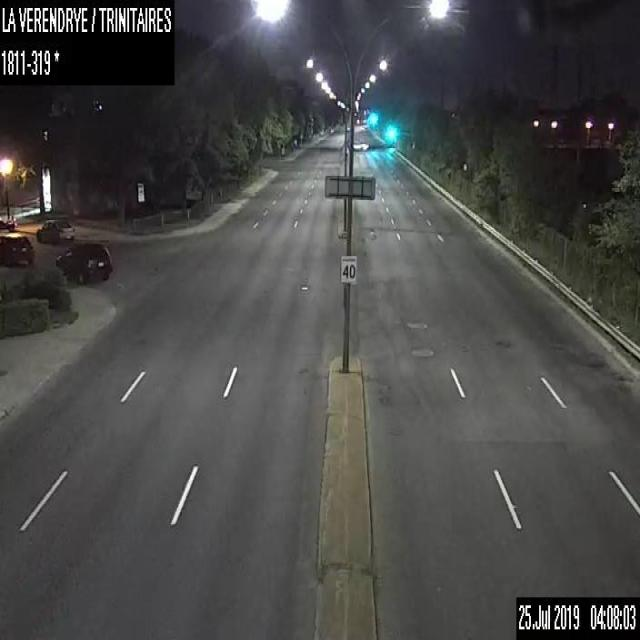vehicle: (55, 242, 112, 282), (0, 232, 34, 268), (36, 218, 74, 243), (0, 214, 15, 230)
